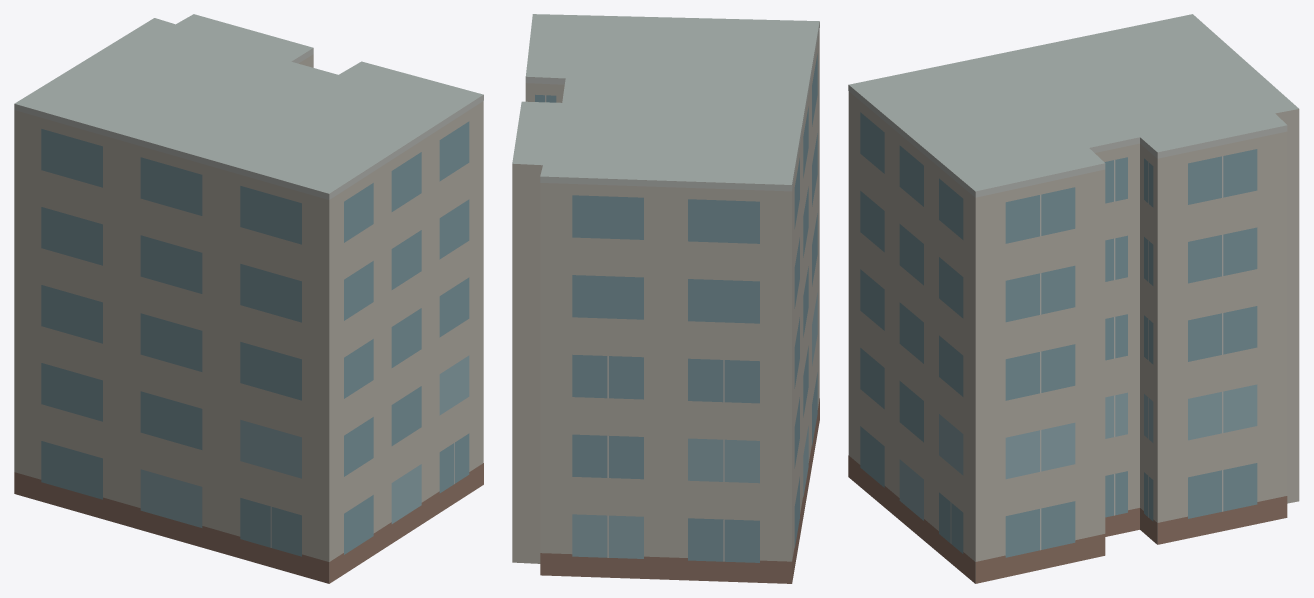
Rendered from survey-upis-32702241.glb.
3 views of the same model, side by side, from view 1: azimuth 30°, elevation 25°; view 2: azimuth 150°, elevation 25°; view 3: azimuth 270°, elevation 25° (orthographic). The views are drawn at different scales.
Parts seen in each view (by area): view 1: survey-upis-32702241.tmp; view 2: survey-upis-32702241.tmp; view 3: survey-upis-32702241.tmp.
Boxes of the visible parts, bbox=[...] form: survey-upis-32702241.tmp: bbox=[14, 14, 483, 583]; survey-upis-32702241.tmp: bbox=[512, 14, 819, 583]; survey-upis-32702241.tmp: bbox=[848, 14, 1299, 583].
Bounding box in the file's own units: 14.8 × 15.25 × 15.89.
